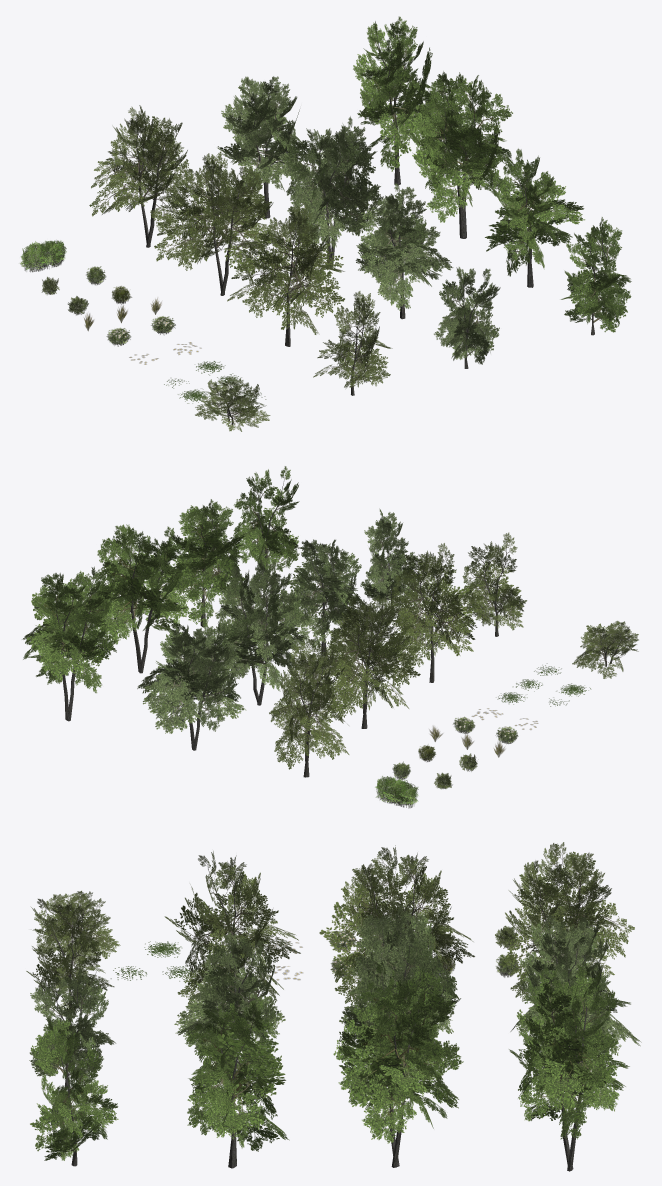
3 renders of one model, top to bottom at view 1: azimuth 30°, elevation 25°; view 2: azimuth 150°, elevation 25°; view 3: azimuth 270°, elevation 25°, orthographic. The views are drawn at different scales.
Visible parts, largest first — view 1: Tree-03-2_9, Tree-01-2_1, Tree-02-2_5, Tree-01-3_2, Tree-01-1_0, Tree-03-1_8, Tree-02-3_6, Tree-03-3_10, Tree-02-1_4, Tree-03-4_11, Tree-02-4_7, Tree-01-4_3 (+2 smaller); view 2: Tree-03-2_9, Tree-02-1_4, Tree-03-1_8, Tree-02-2_5, Tree-01-2_1, Tree-01-3_2, Tree-01-1_0, Tree-03-3_10, Tree-02-3_6, Tree-03-4_11, Tree-01-4_3, Tree-02-4_7 (+2 smaller); view 3: Tree-03-2_9, Tree-03-1_8, Tree-03-3_10, Tree-01-1_0, Tree-01-2_1, Tree-01-3_2, Tree-03-4_11, Tree-02-2_5, Tree-02-1_4, Tree-02-3_6, Tree-02-4_7, Tree-01-4_3 (+1 smaller).
Part boxes in pixels (bbox=[...]): Tree-03-2_9: bbox=[412, 71, 514, 238]; Tree-01-2_1: bbox=[154, 151, 275, 295]; Tree-02-2_5: bbox=[284, 116, 383, 267]; Tree-01-3_2: bbox=[227, 204, 344, 346]; Tree-01-1_0: bbox=[89, 105, 192, 247]; Tree-03-1_8: bbox=[353, 16, 442, 184]; Tree-02-3_6: bbox=[355, 182, 453, 319]; Tree-03-3_10: bbox=[485, 148, 584, 287]; Tree-02-1_4: bbox=[217, 76, 310, 218]; Tree-03-4_11: bbox=[560, 217, 631, 335]; Tree-02-4_7: bbox=[434, 267, 500, 368]; Tree-01-4_3: bbox=[313, 291, 392, 395]; Tree-03-2_9: bbox=[92, 524, 190, 673]; Tree-02-1_4: bbox=[137, 621, 246, 750]; Tree-03-1_8: bbox=[22, 566, 116, 721]; Tree-02-2_5: bbox=[215, 558, 306, 705]; Tree-01-2_1: bbox=[313, 589, 420, 728]; Tree-01-3_2: bbox=[383, 543, 483, 682]; Tree-01-1_0: bbox=[269, 639, 349, 777]; Tree-03-3_10: bbox=[160, 499, 245, 628]; Tree-02-3_6: bbox=[286, 539, 365, 655]; Tree-03-4_11: bbox=[233, 466, 299, 581]; Tree-01-4_3: bbox=[458, 532, 526, 636]; Tree-02-4_7: bbox=[360, 509, 419, 607]; Tree-03-2_9: bbox=[333, 961, 463, 1167]; Tree-03-1_8: bbox=[509, 961, 629, 1171]; Tree-03-3_10: bbox=[185, 996, 289, 1168]; Tree-01-1_0: bbox=[501, 842, 634, 1001]; Tree-01-2_1: bbox=[319, 845, 474, 1005]; Tree-01-3_2: bbox=[164, 851, 300, 1004]; Tree-03-4_11: bbox=[30, 1017, 118, 1166]; Tree-02-2_5: bbox=[339, 904, 460, 1080]; Tree-02-1_4: bbox=[510, 915, 641, 1091]; Tree-02-3_6: bbox=[174, 932, 285, 1064]; Tree-02-4_7: bbox=[29, 968, 115, 1087]; Tree-01-4_3: bbox=[26, 899, 114, 1021].
Size of the model in its own units: 29.83 by 10.63 by 29.05.
38 materials, 38 textured.
